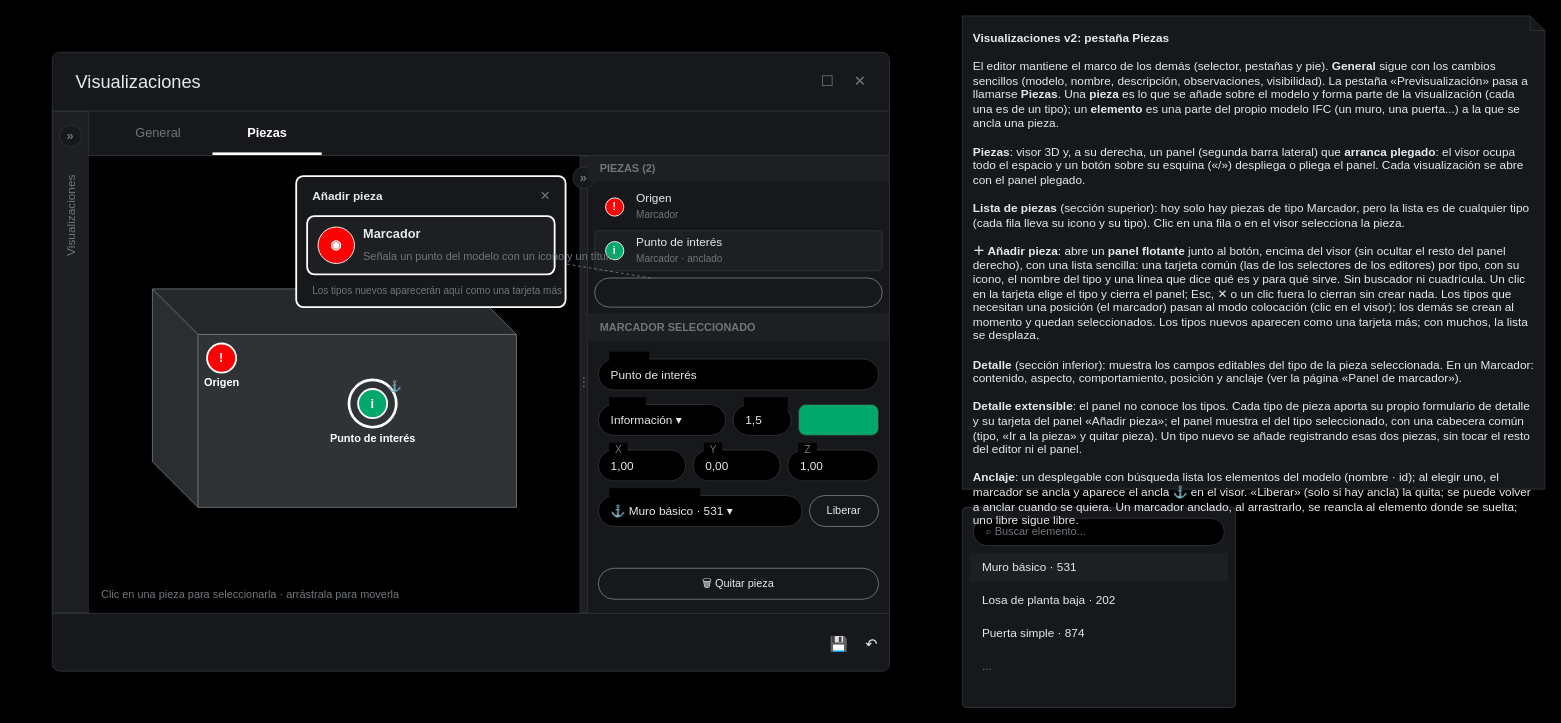
The diagram is 1561 pixels wide and 723 high, and some of its shapes have lost their labels. Each missing label, with the centre of its shape:
Anclado al elemento del modelo: (x=654, y=495)
Icono: (x=627, y=404)
Tamaño: (x=765, y=404)
Título: (x=629, y=358)
＋ Añadir pieza: (x=738, y=292)
